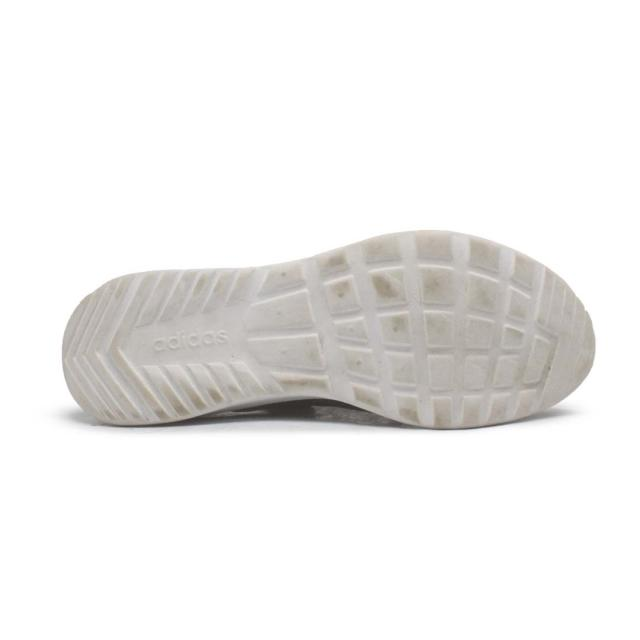outersole: (60, 228, 595, 430)
